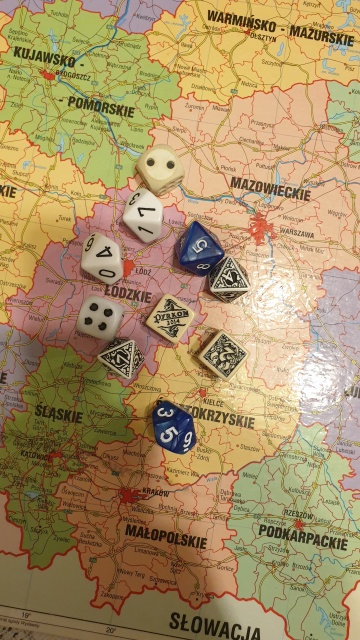d10-4: (77, 227, 125, 288)
d10-5: (149, 399, 195, 456), (180, 221, 215, 262)
d10-7: (121, 187, 164, 244)
d6-2: (139, 146, 183, 185)
d6-4: (77, 296, 118, 341)
d6p-1: (144, 292, 194, 346)
d6p-2: (198, 328, 248, 381)
d8p-4: (208, 256, 253, 299)
d8p-7: (93, 338, 150, 383)
